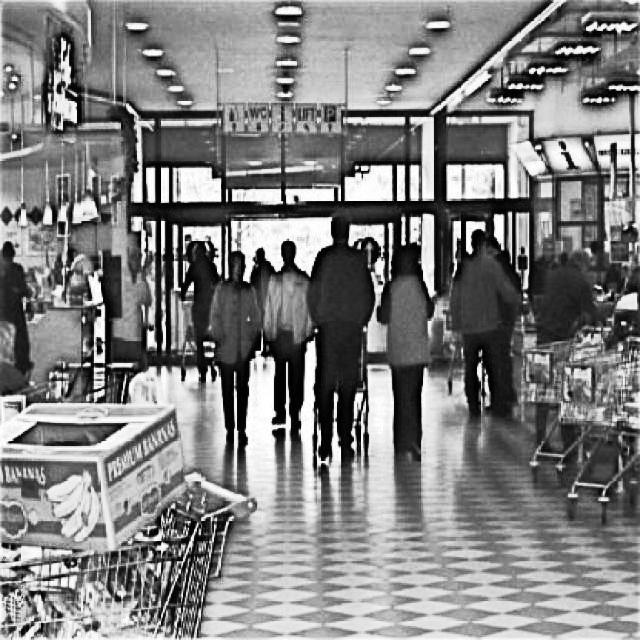Person: (307, 215, 375, 463), (445, 227, 527, 410), (375, 239, 440, 462), (263, 234, 317, 439), (209, 242, 260, 453)
